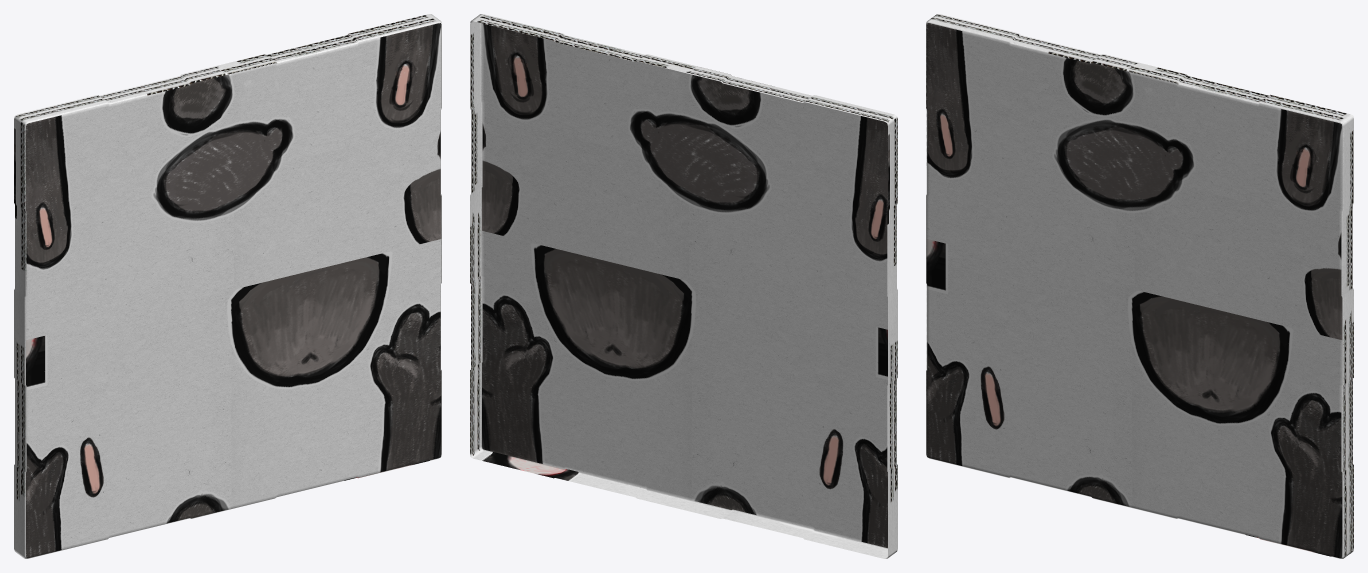
The model's file is Ac_BuJian.fbx.
The picture shows the model from 3 angles, left to right: view 1: azimuth 30°, elevation 25°; view 2: azimuth 150°, elevation 25°; view 3: azimuth 330°, elevation 25°; orthographic projection.
Visible parts, largest first — view 1: C1; view 2: C1; view 3: C1.
Part boxes in pixels (x1,y1,x2,y2): C1: (14, 14, 441, 558); C1: (470, 14, 897, 558); C1: (926, 14, 1353, 558).
Size of the model in its own units: 1 by 1 by 0.0438.
